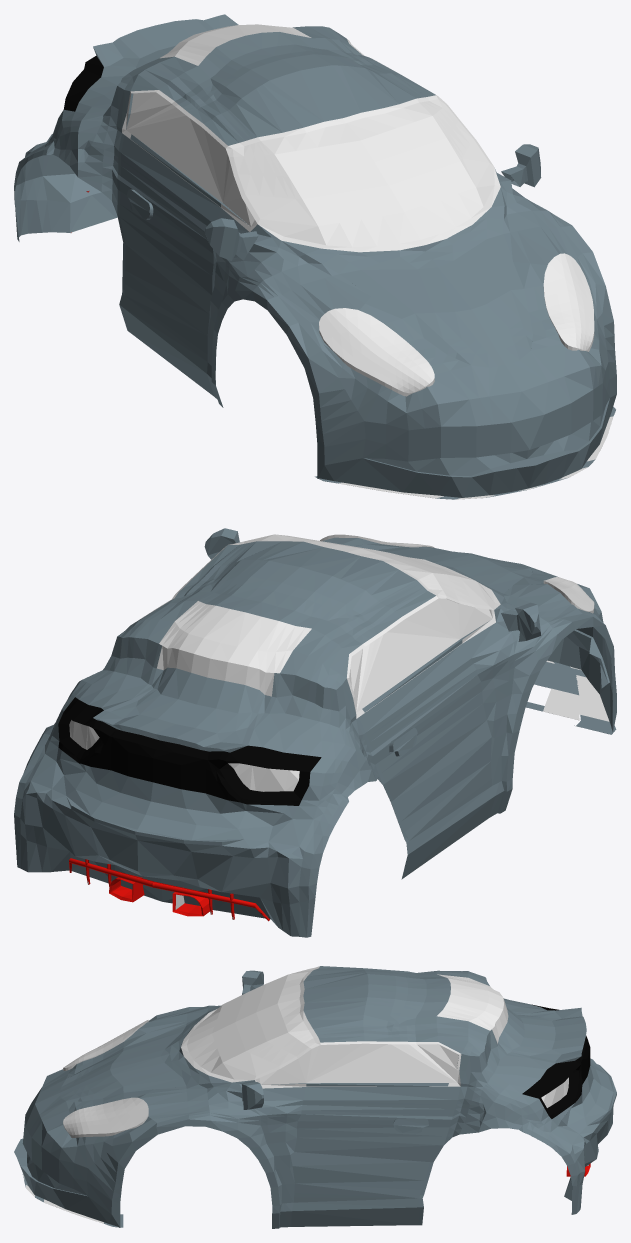
Rendered from kabuk.dae.
The picture shows the model from 3 angles, top to bottom: view 1: azimuth 30°, elevation 25°; view 2: azimuth 150°, elevation 25°; view 3: azimuth 270°, elevation 25°; orthographic projection. The views are drawn at different scales.
Visible parts, largest first — view 1: astrid; view 2: astrid; view 3: astrid.
Part boxes in pixels (x1,y1,x2,y2): astrid: (14, 14, 616, 499); astrid: (14, 528, 616, 937); astrid: (14, 966, 616, 1228).
Bounding box in the file's own units: 1.24 × 2.59 × 0.915.
